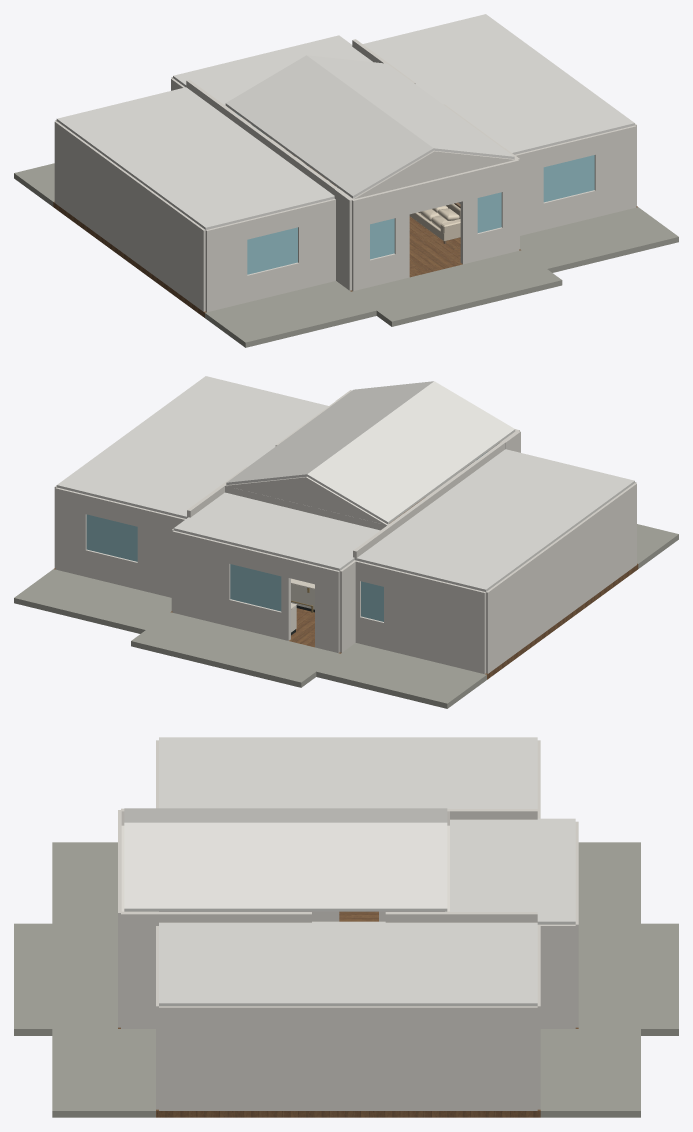
3 views of the same model, one above another, from view 1: azimuth 30°, elevation 25°; view 2: azimuth 150°, elevation 25°; view 3: azimuth 270°, elevation 25° (orthographic). The views are drawn at different scales.
Parts seen in each view (by area): view 1: ceiling-left, ceiling-right, family-dining/vault-left, ext-left/end, ground/slab/4, family-dining/vault-right, ground/slab/3, ground/slab/5, ceiling-kitchen, ext-primary-front/pier-0, ext-right-front/end, ext-primary-front/end (+26 smaller); view 2: ceiling-left, ceiling-right, family-dining/vault-left, ext-left/end, ext-left-rear/pier-0, ceiling-kitchen, ground/slab/7, family-dining/vault-right, ground/slab/6, ground/slab/8, ext-kitchen-rear/end, ext-right-rear/pier-0 (+21 smaller); view 3: ext-right/end, ceiling-right, family-dining/vault-right, ceiling-left, ceiling-kitchen, ground/slab/4, ground/slab/7, ground/slab/5, ground/slab/8, ground/slab/3, ground/slab/6, family-dining/vault-left (+6 smaller).
Boxes of the visible parts, box(x1,y1,x2,y2) form: ceiling-left: box(56, 87, 334, 229); ceiling-right: box(363, 14, 634, 154); family-dining/vault-left: box(225, 55, 433, 198); ext-left/end: box(54, 121, 205, 311); ground/slab/4: box(351, 250, 562, 326); family-dining/vault-right: box(307, 55, 514, 158); ground/slab/3: box(205, 281, 376, 347); ground/slab/5: box(520, 207, 678, 272); ceiling-kitchen: box(173, 35, 372, 104); ext-primary-front/pier-0: box(205, 220, 247, 312); ext-right-front/end: box(594, 125, 636, 217); ext-primary-front/end: box(298, 198, 335, 289); ceiling-left: box(354, 449, 634, 591); ceiling-right: box(56, 376, 328, 518); family-dining/vault-left: box(307, 381, 515, 524); ext-left/end: box(486, 483, 636, 673); ext-left-rear/pier-0: box(384, 567, 485, 674); ceiling-kitchen: box(173, 492, 380, 570); ground/slab/7: box(131, 612, 340, 687); family-dining/vault-right: box(226, 381, 433, 484); ground/slab/6: box(316, 643, 486, 708); ground/slab/8: box(14, 569, 171, 633); ext-kitchen-rear/end: box(172, 530, 230, 626); ext-right-rear/pier-0: box(137, 507, 185, 597); ext-right/end: box(159, 1006, 537, 1110); ceiling-right: box(159, 921, 537, 1006); family-dining/vault-right: box(124, 822, 447, 911); ceiling-left: box(159, 737, 537, 808); ceiling-kitchen: box(450, 818, 575, 924); ground/slab/4: box(14, 923, 117, 1035); ground/slab/7: box(578, 923, 678, 1035); ground/slab/5: box(52, 1029, 155, 1117); ground/slab/8: box(540, 1029, 640, 1117); ground/slab/3: box(52, 842, 117, 923); ground/slab/6: box(578, 842, 640, 923); family-dining/vault-left: box(124, 808, 447, 822).
Bounding box in the file's own units: 15.32 × 4.26 × 16.01.
Materials: 57 (2 with a texture image).
